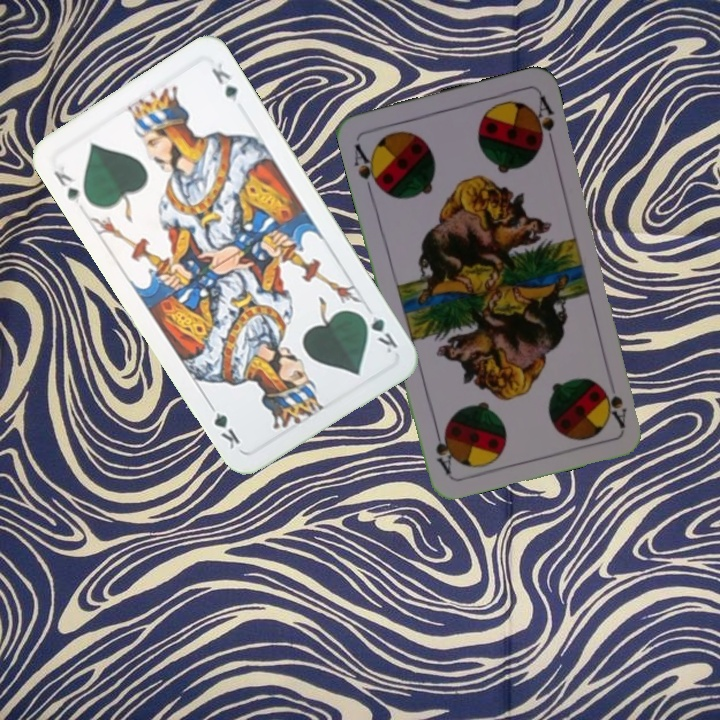GK: (355, 308, 400, 356), (49, 161, 84, 206)
SA: (350, 140, 385, 195), (600, 386, 630, 430)
